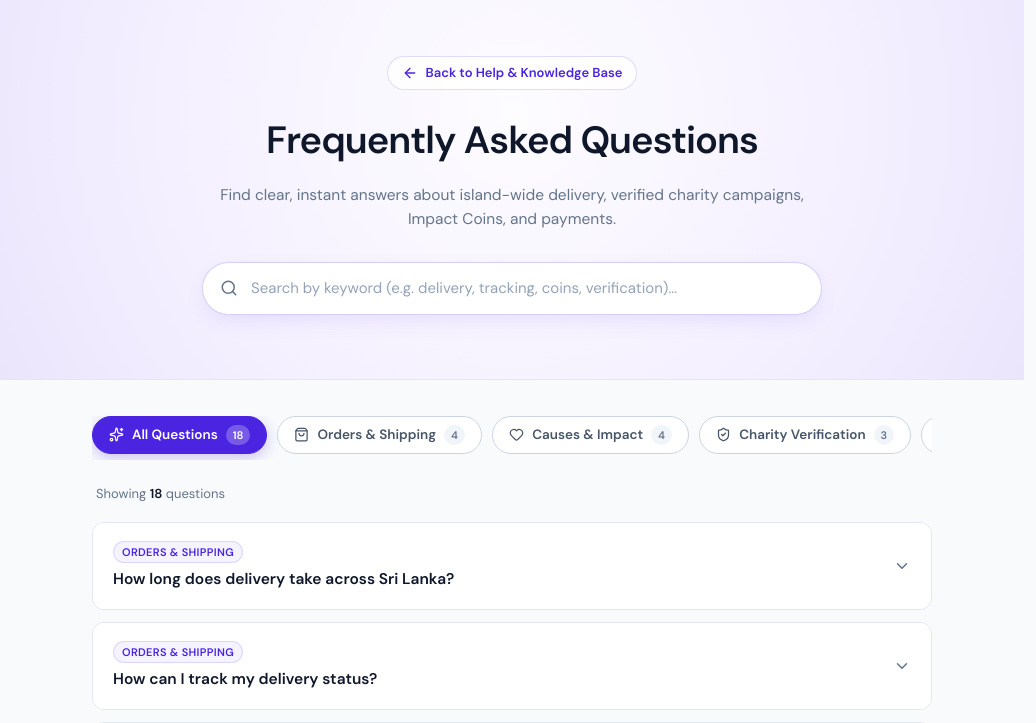
Test case: FAQ › renders the FAQ list and toggles an accordion item
Expected: the heading "Frequently Asked Questions" is shown, [266,114,758,164]
Click the button "How long does delivery take across Sri Lanka?" at (178, 552), box [93,523,931,609]
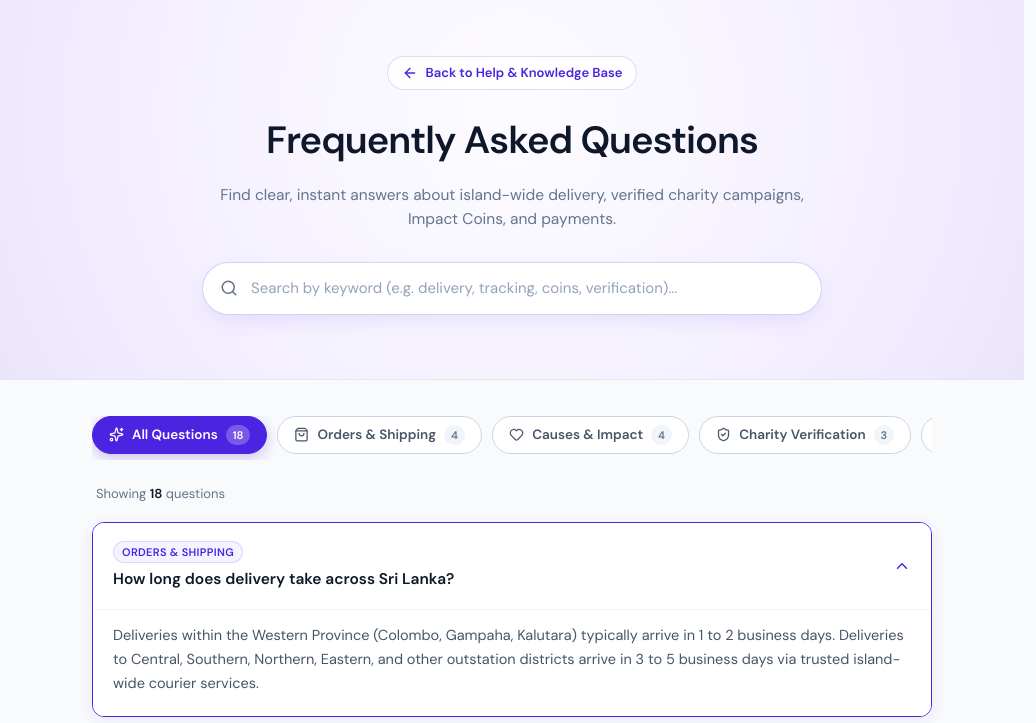
Result: the button "How long does delivery take across Sri Lanka?" is expanded
Result: the text "Deliveries within the Western Province" is shown at [113,626,904,692]
Click the button "How long does delivery take across Sri Lanka?" at (178, 552), box [93,523,931,609]
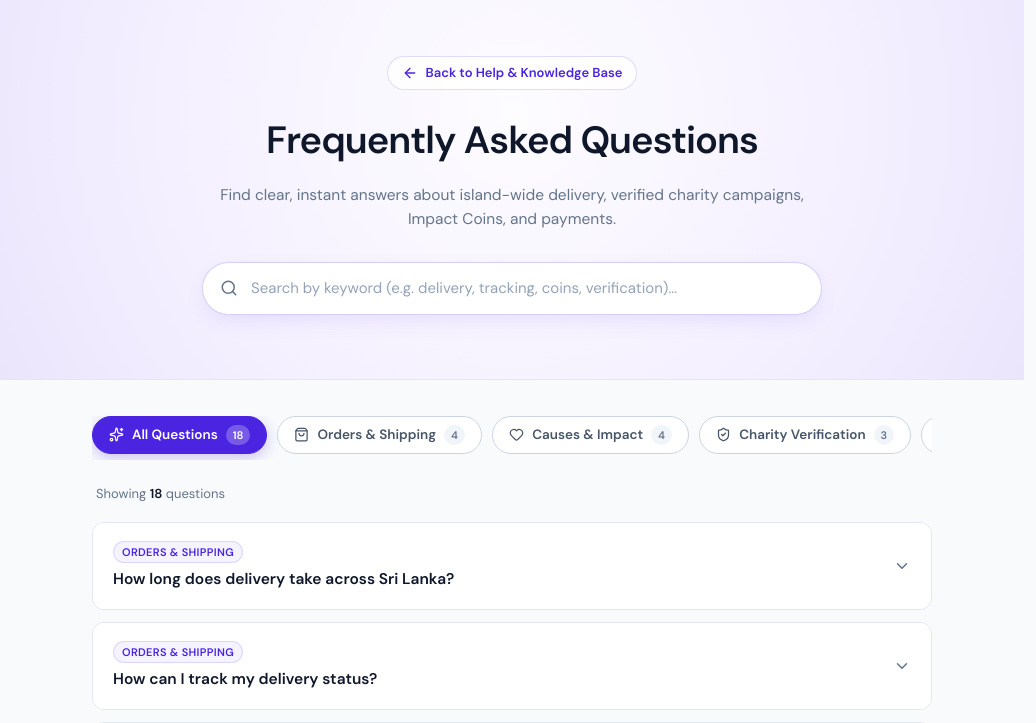
Result: the button "How long does delivery take across Sri Lanka?" is collapsed at [93,523,931,609]
